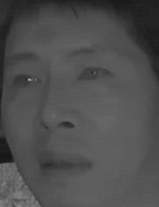eye: (73, 63, 112, 86), (9, 71, 43, 92)
mouth: (35, 143, 92, 182)
